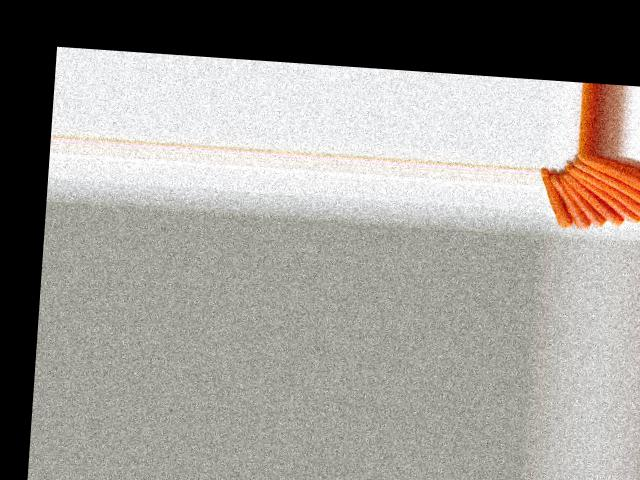carrot: (576, 154, 640, 208)
